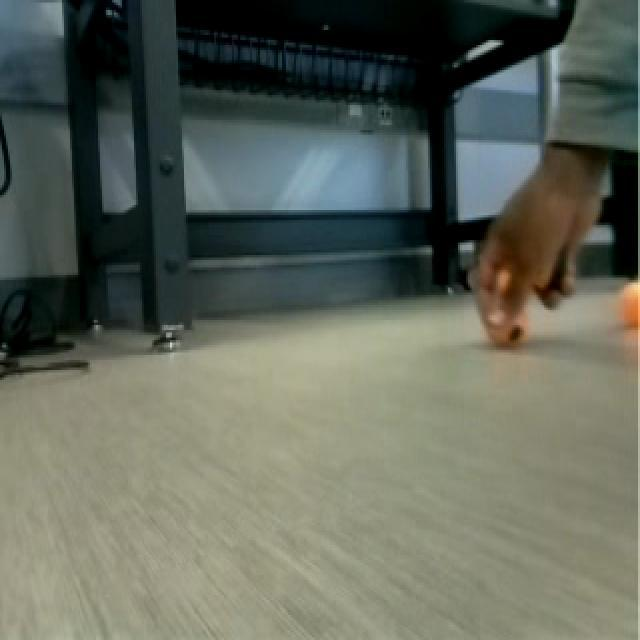oball: (617, 278, 640, 328)
